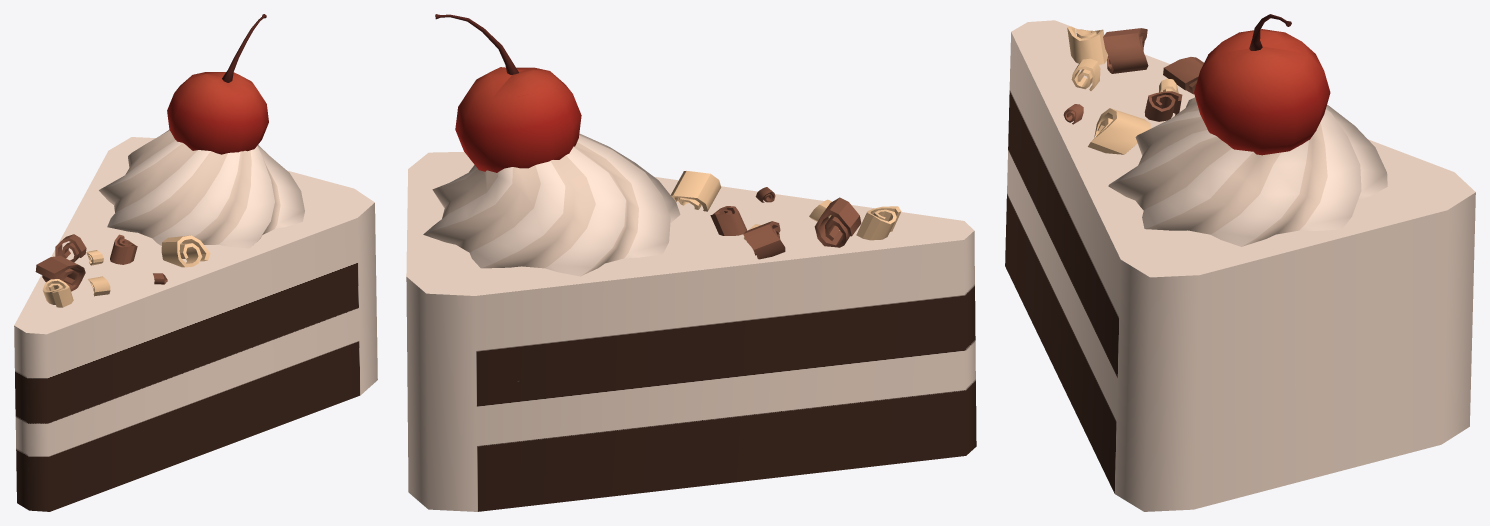
The model's file is m_shortcakeV2.fbx.
3 renders of one model, left to right at view 1: azimuth 30°, elevation 25°; view 2: azimuth 150°, elevation 25°; view 3: azimuth 270°, elevation 25°, orthographic. The views are drawn at different scales.
Parts seen in each view (by area): view 1: shortcakeV2; view 2: shortcakeV2; view 3: shortcakeV2.
Part boxes in pixels (bbox=[...]): shortcakeV2: bbox=[14, 14, 377, 511]; shortcakeV2: bbox=[406, 14, 976, 511]; shortcakeV2: bbox=[1005, 14, 1475, 511].
Size of the model in its own units: 21.44 by 17.6 by 16.56.
